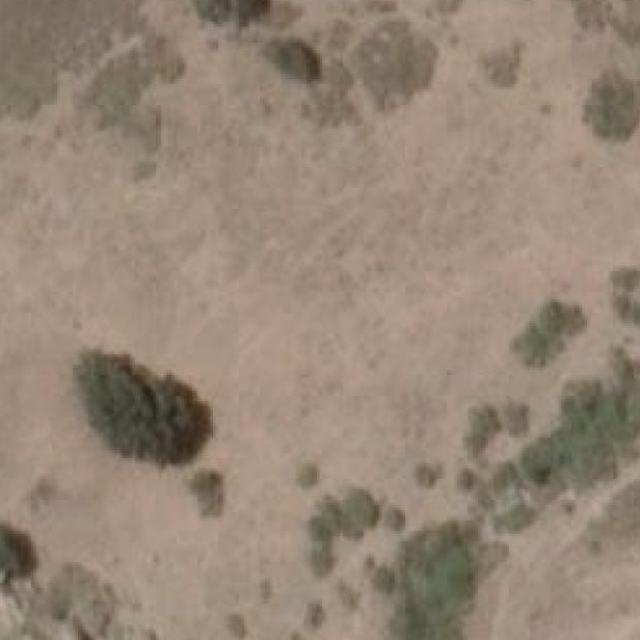Tree: (78, 352, 208, 462), (379, 525, 483, 640), (312, 489, 379, 562), (584, 71, 640, 141), (527, 302, 582, 368), (192, 0, 273, 27), (269, 39, 314, 79), (186, 469, 220, 510), (0, 520, 24, 570), (294, 464, 319, 493), (226, 609, 250, 637), (381, 510, 405, 531)
